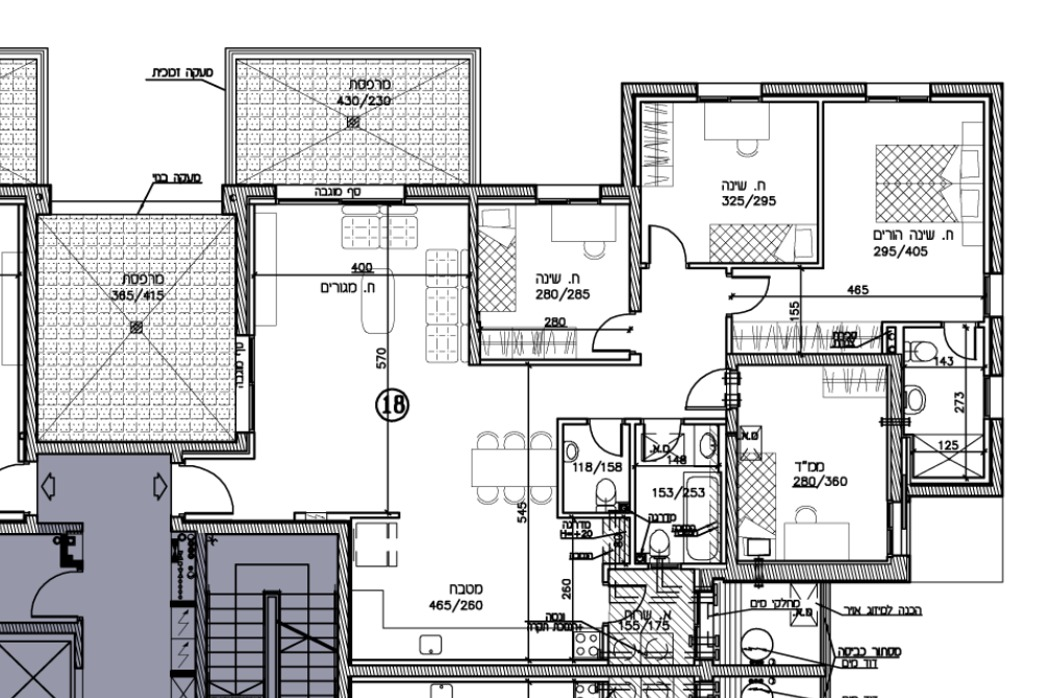door: (192, 467, 242, 514), (24, 568, 68, 620), (733, 271, 775, 320), (680, 363, 720, 413), (644, 221, 695, 255), (940, 328, 977, 363), (584, 429, 624, 460)
wall: (360, 665, 714, 675), (26, 440, 246, 453), (23, 213, 34, 454), (765, 565, 901, 581), (991, 81, 1001, 273), (739, 353, 876, 364), (620, 85, 633, 197), (413, 186, 523, 196), (766, 83, 857, 95), (726, 443, 734, 576), (992, 319, 1000, 375), (992, 428, 1000, 484)
window: (268, 180, 409, 210), (877, 497, 912, 558), (861, 79, 933, 107), (692, 80, 766, 107)
